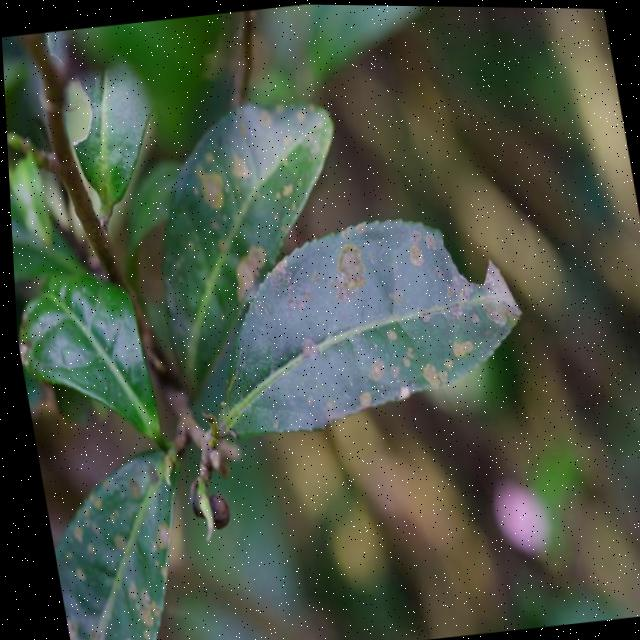Tea algae leaf spot: (273, 205, 535, 406)
